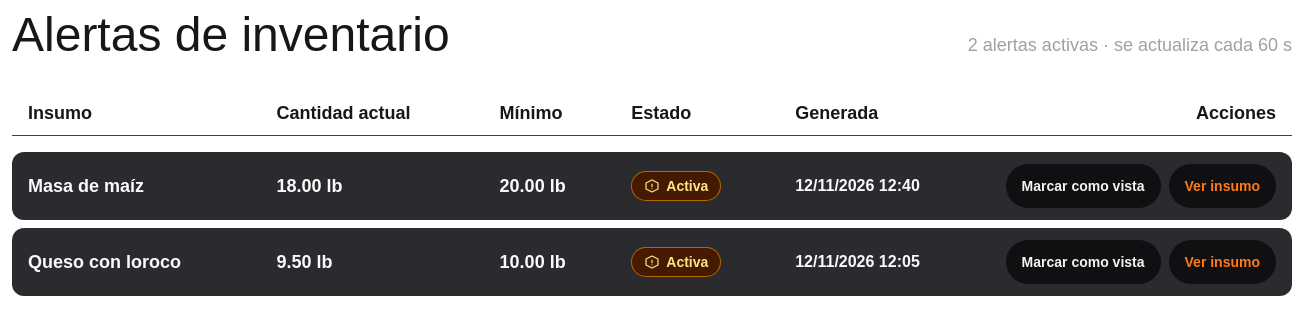
panel de alertas (FE-15.1) › 409 (ya resuelta): la quita de la lista sin mostrar error
Click the button with aria-label "Marcar como vista la alerta de Masa de maíz": {"x": 1083, "y": 186} left=1006, top=164, right=1161, bottom=208
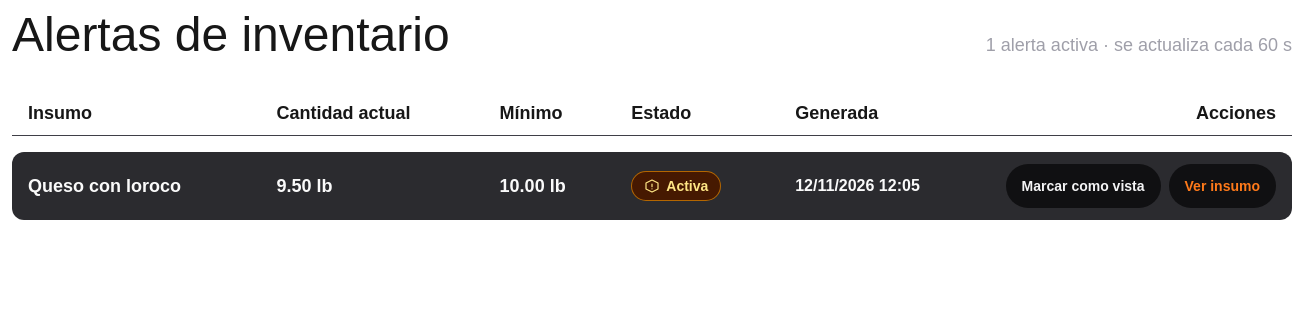
Check: the column heading "Queso con loroco" is shown, box left=12, top=152, right=261, bottom=220
Check: the text "Masa de maíz" is gone
